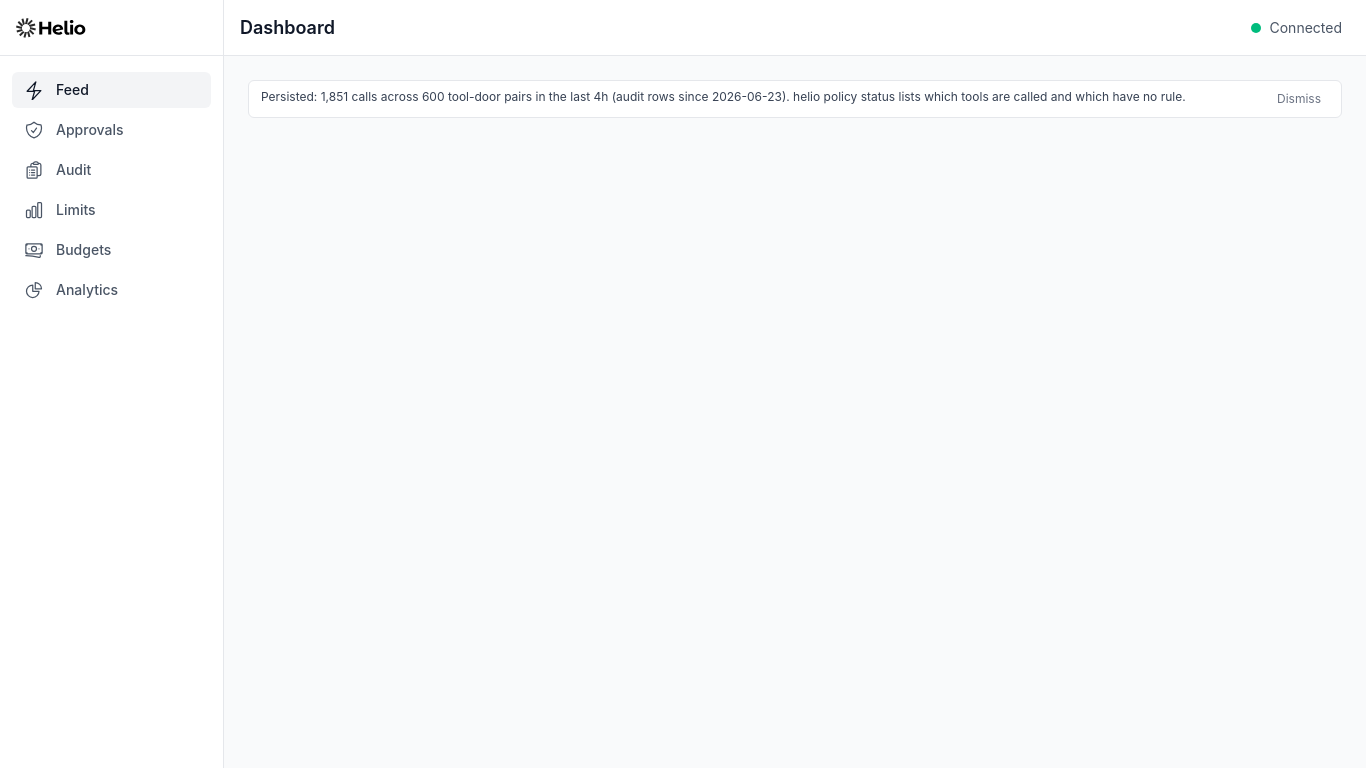
it: Layout › still hides the banner on Dismiss when localStorage throws
Click the button "Dismiss": (1299, 99) [1269,89,1329,109]
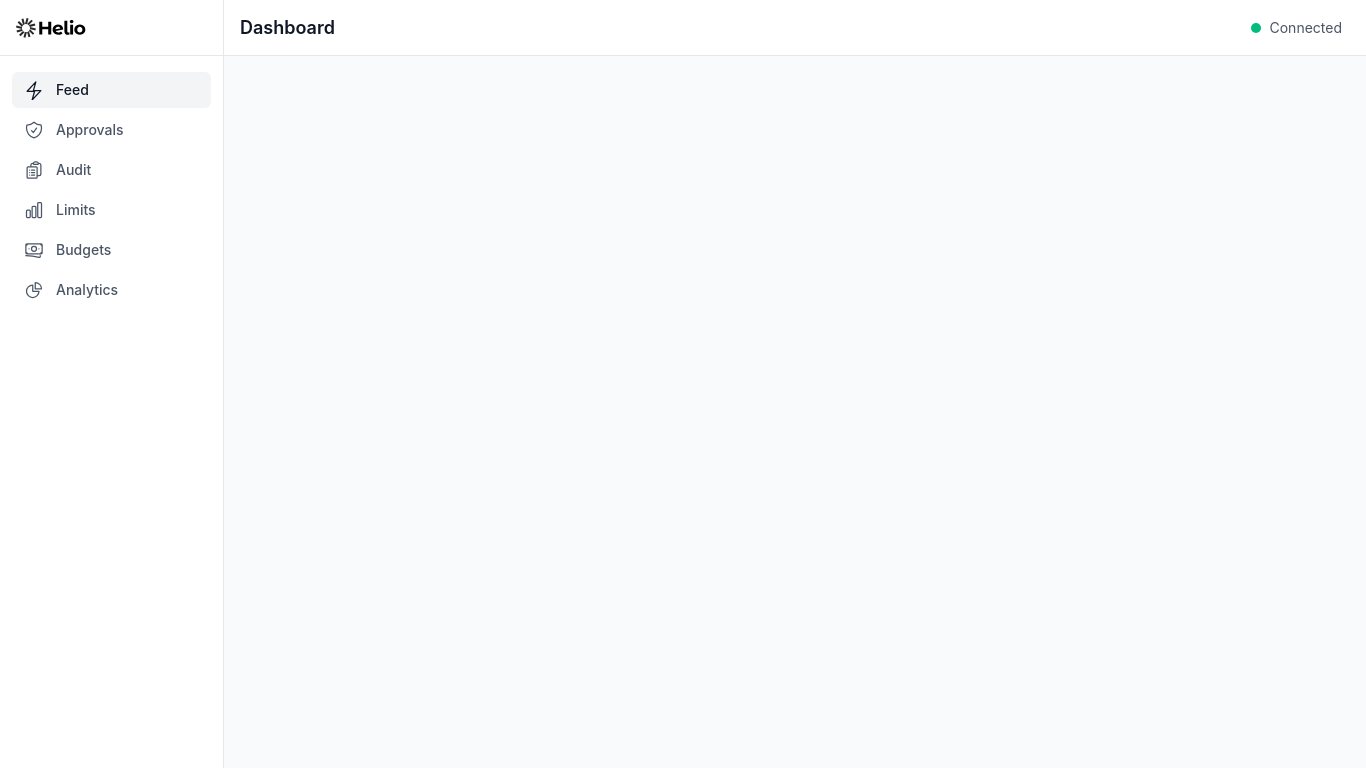
Expected: the text "Persisted: 1,851 calls across 600 tool-door pairs in the last 4h (audit rows since 2026-06-23). helio policy status list" is gone
